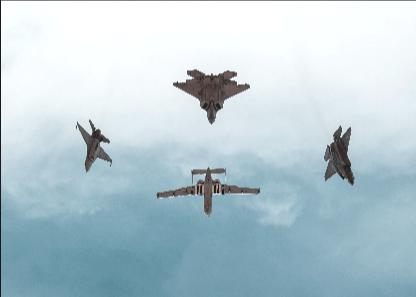A10: (156, 166, 260, 216)
F14: (76, 118, 112, 173)
F18: (172, 69, 250, 124)
F22: (324, 125, 354, 184)
